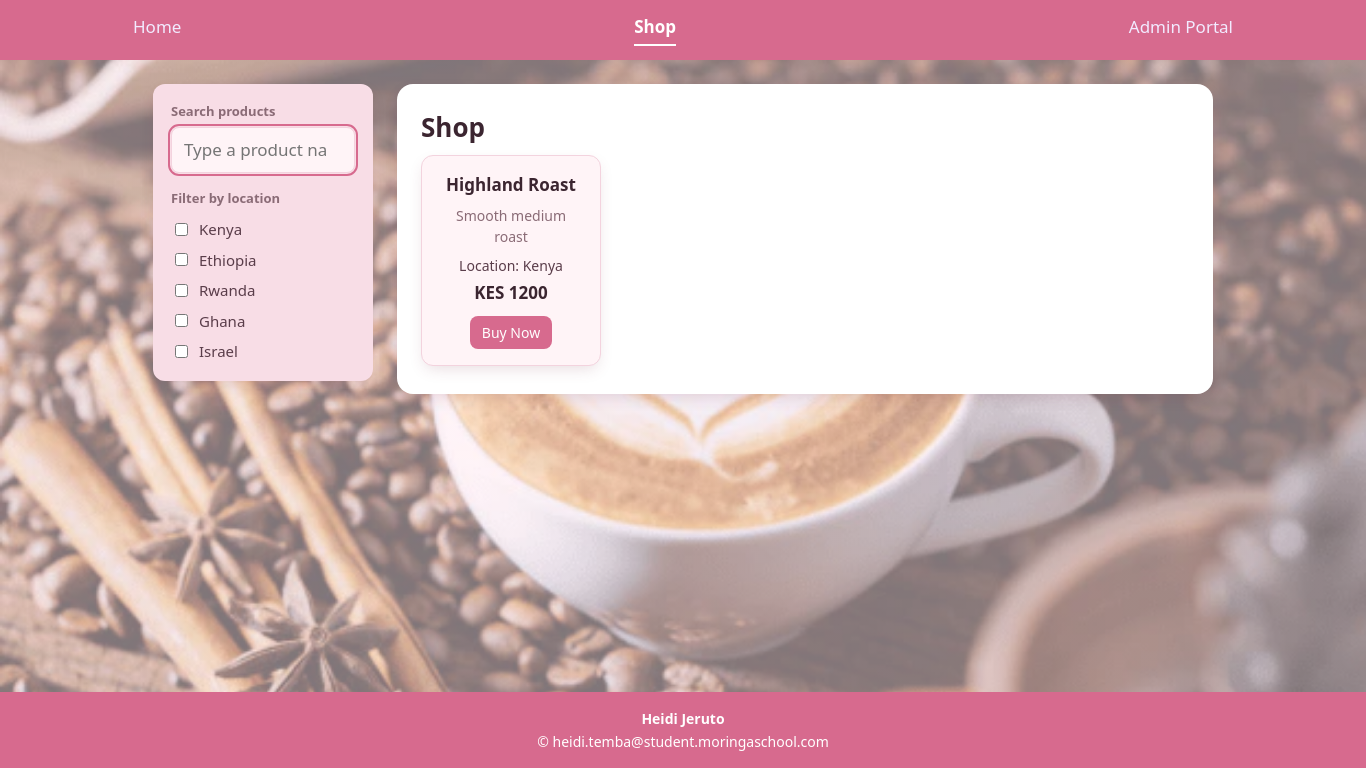
Scenario: App routing + navigation › navigates to the Admin Portal form
Click the link "Admin Portal": (1181, 30) [1129,14,1233,46]
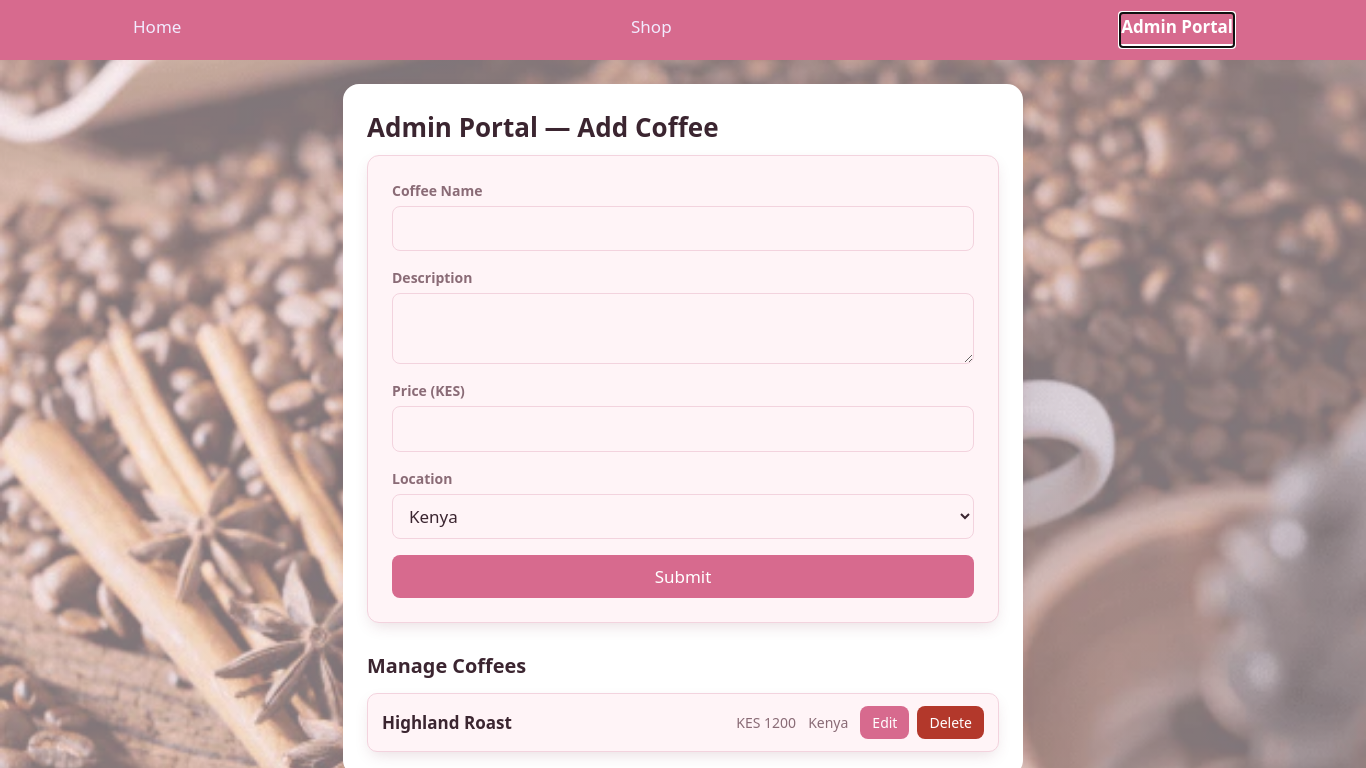
Now the heading "Admin Portal — Add Coffee" is shown, box [367,108,718,144]
